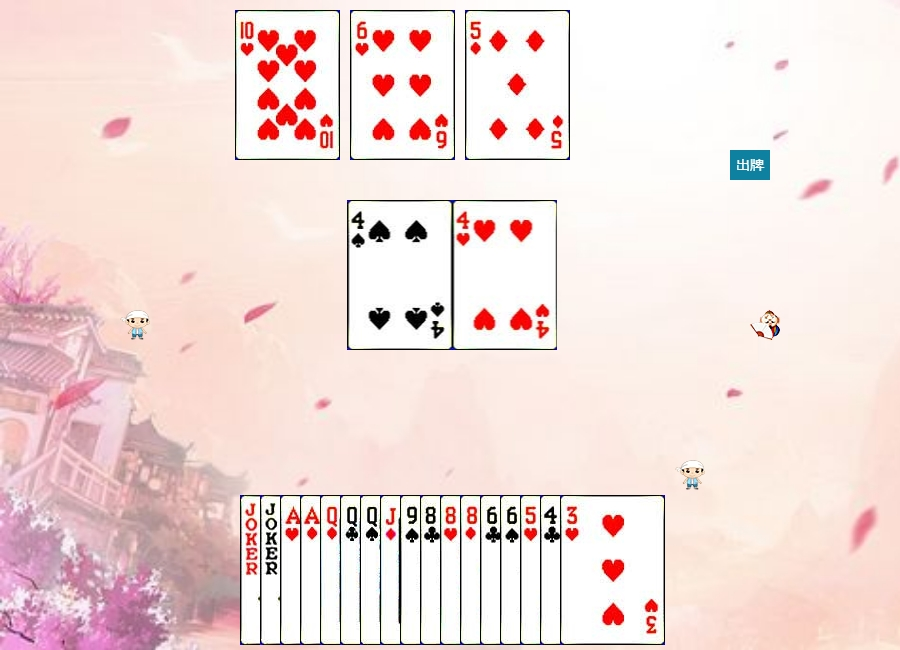10~3: (235, 10, 340, 160)
11~1: (380, 495, 485, 645)
12~1: (320, 495, 425, 645)
12~2: (340, 495, 445, 645)
12~4: (360, 495, 465, 645)
14~1: (300, 495, 405, 645)
14~3: (280, 495, 385, 645)
17~3: (260, 495, 365, 645)
18~4: (240, 495, 345, 645)
3~3: (560, 495, 665, 645)
4~2: (540, 495, 645, 645)
4~3: (453, 200, 558, 350)
4~4: (348, 200, 453, 350)
5~1: (465, 10, 570, 160)
5~3: (520, 495, 625, 645)
6~2: (480, 495, 585, 645)
6~3: (350, 10, 455, 160)
6~4: (500, 495, 605, 645)
8~1: (460, 495, 565, 645)
8~2: (420, 495, 525, 645)
8~3: (440, 495, 545, 645)
9~4: (400, 495, 505, 645)
